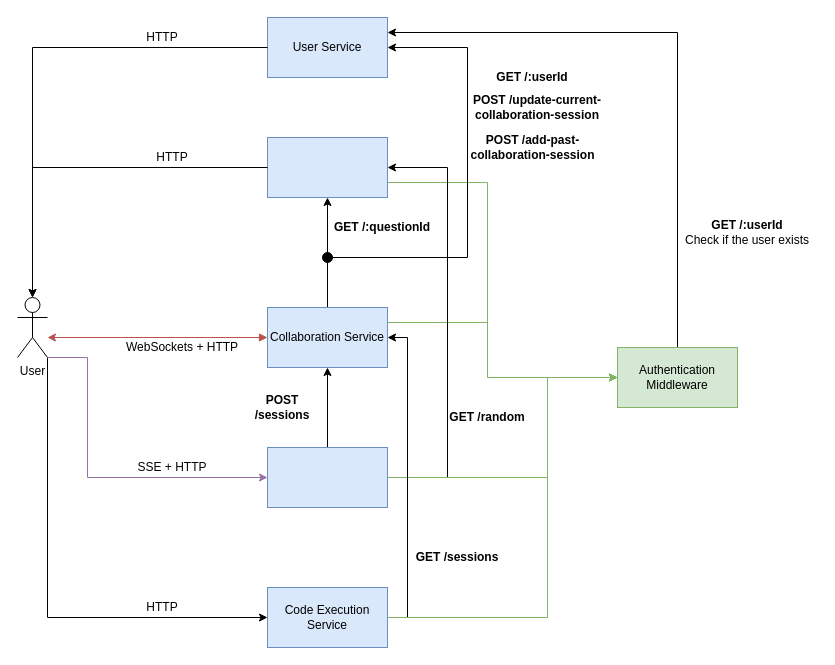
Image size: 835x665. Some labels were removed from this diagram. The centre of each missing label's shape, as x and y in pixels:
Matching Service: point (327, 477)
Question Service: point (327, 167)
